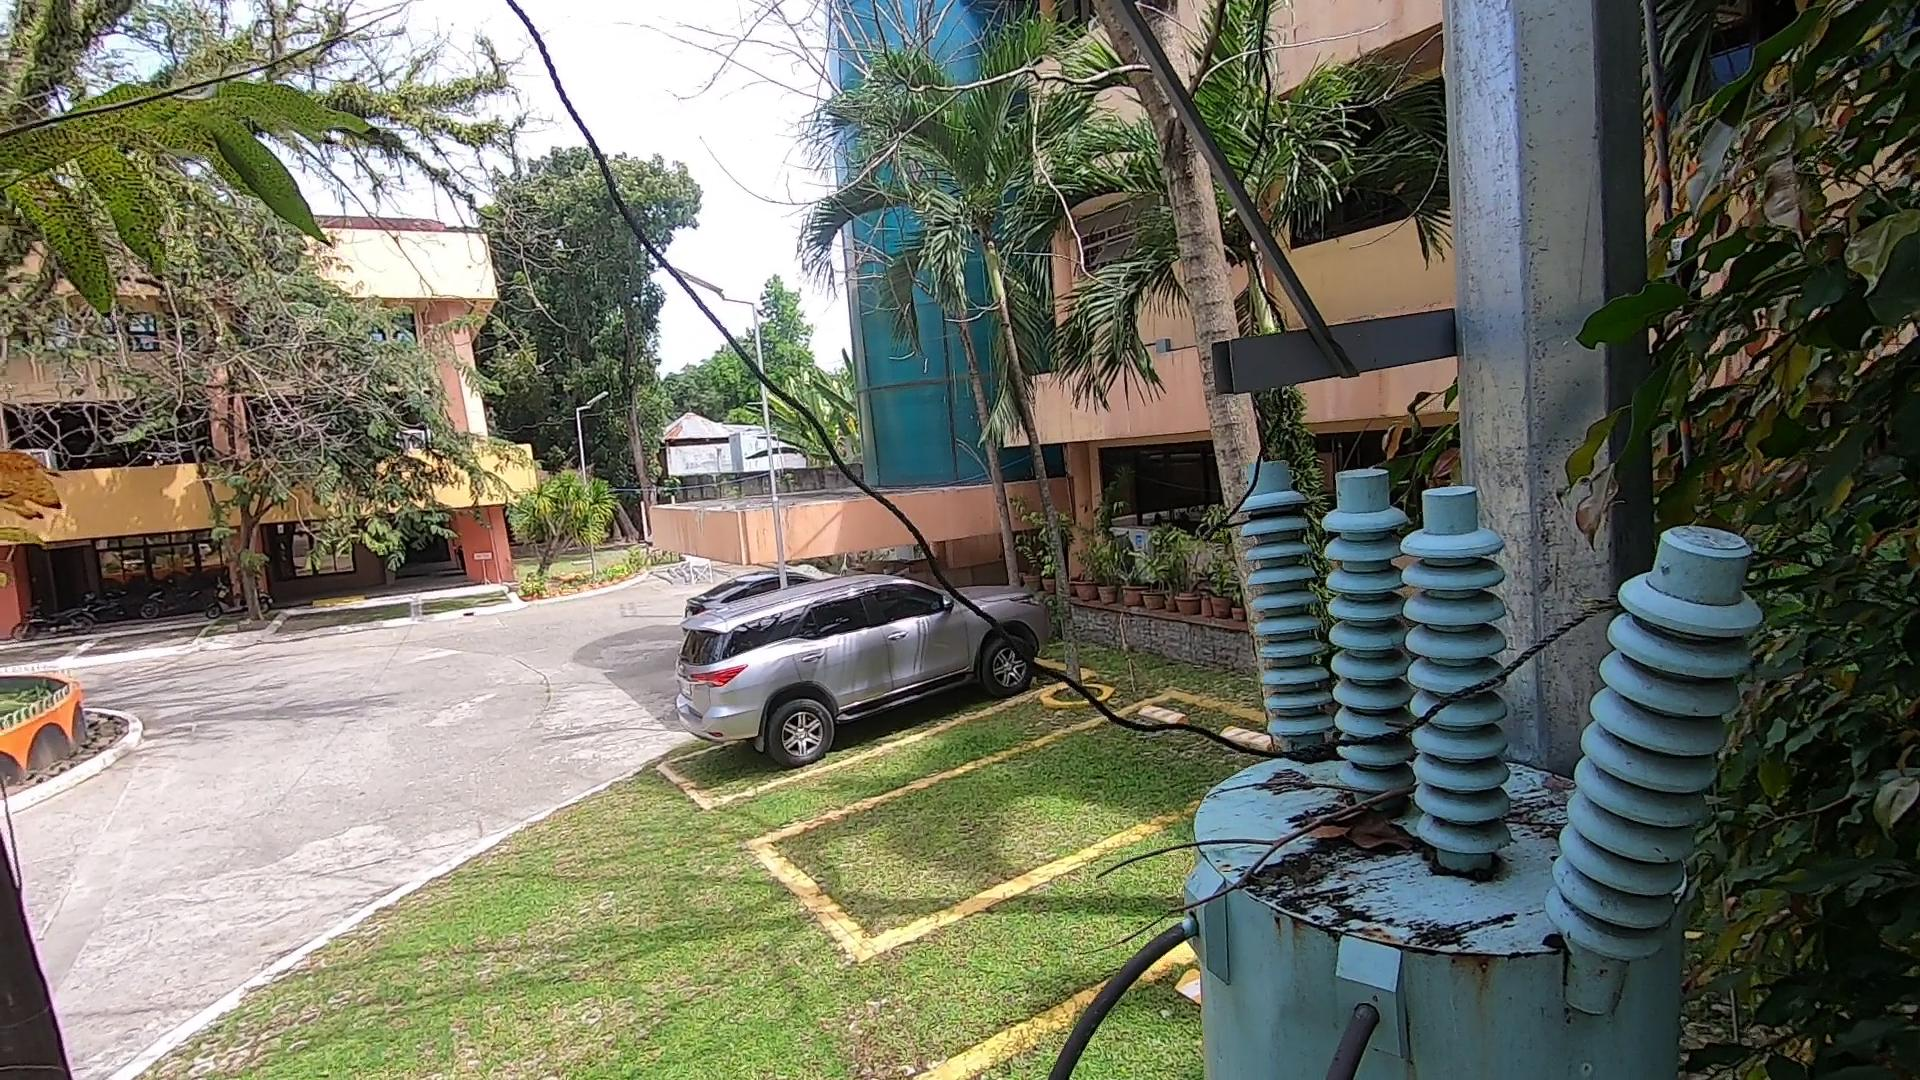leaf: (1298, 814, 1435, 866)
tree branch: (1062, 760, 1402, 945)
